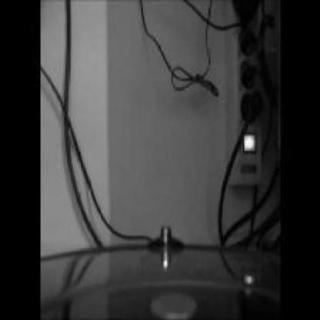other: (235, 121, 261, 159)
